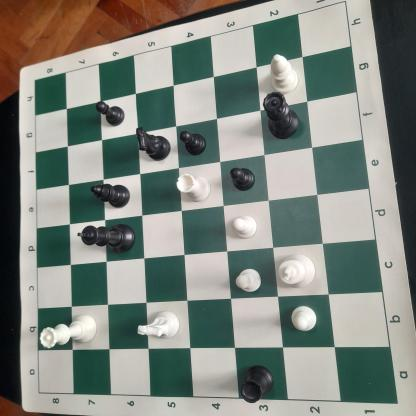black-bishop: (88, 178, 132, 210)
black-king: (75, 222, 137, 256)
black-knight: (133, 124, 173, 163)
black-pawn: (94, 98, 127, 127), (178, 126, 207, 158), (227, 164, 258, 193)
black-queen: (258, 93, 302, 142)
black-rook: (235, 363, 276, 403)
white-bishop: (267, 53, 304, 96)
white-king: (277, 251, 317, 291)
white-knight: (131, 306, 183, 342)
white-pawn: (229, 210, 263, 242), (234, 265, 265, 296), (288, 303, 319, 332)
white-queen: (35, 312, 100, 350)
white-rook: (174, 169, 214, 204)
